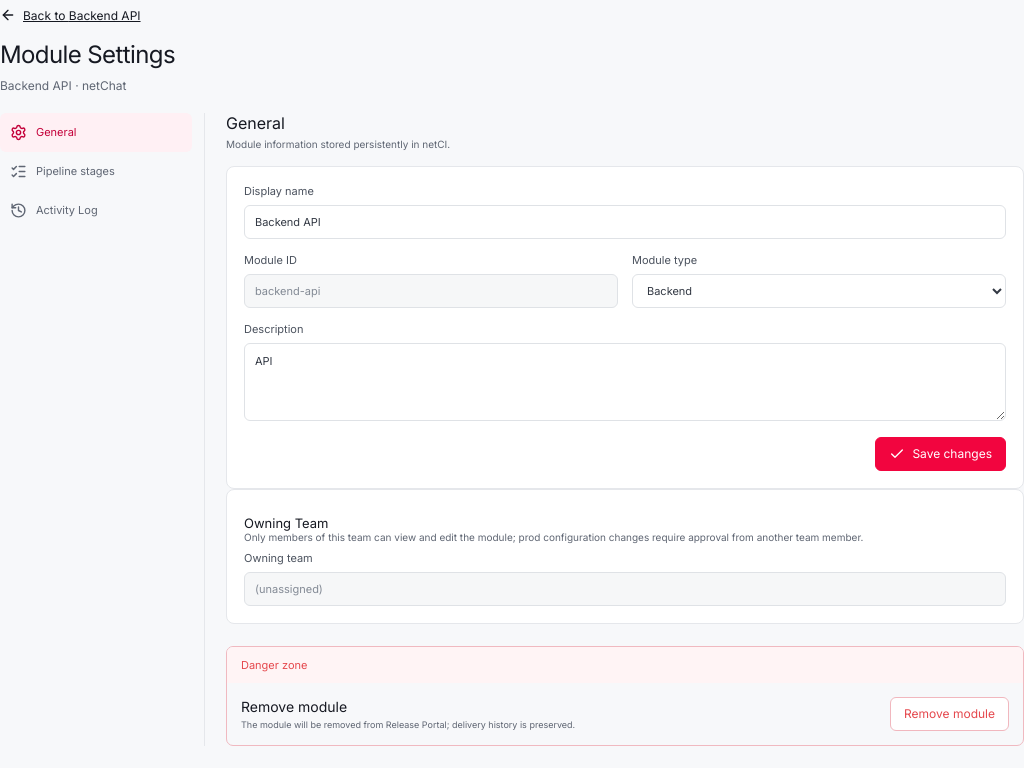
Test: ModuleSettings › removes a module through the API and only after an explicit confirmation
This screenshot has width=1024, height=768.
Click the button "Remove module": (950, 714) x1=890 y1=697 x2=1009 y2=731
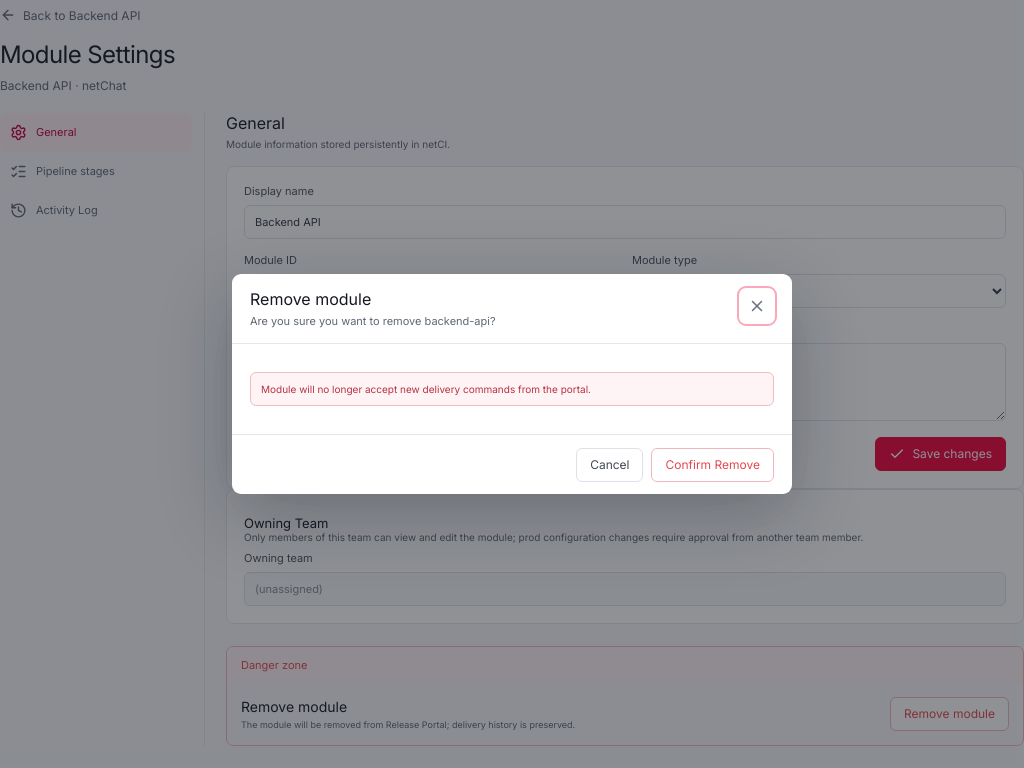
Click the button "Confirm Remove": (713, 464) x1=652 y1=448 x2=774 y2=482
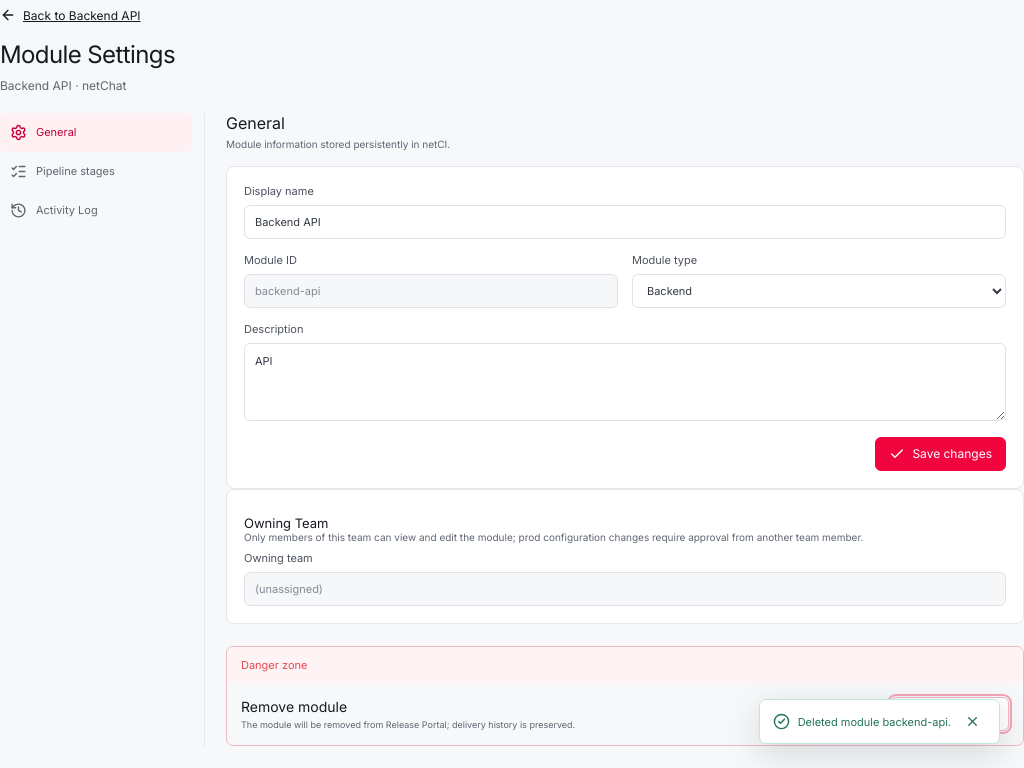
Now the text "Deleted module backend-api." is shown, box x1=759 y1=699 x2=1000 y2=744
